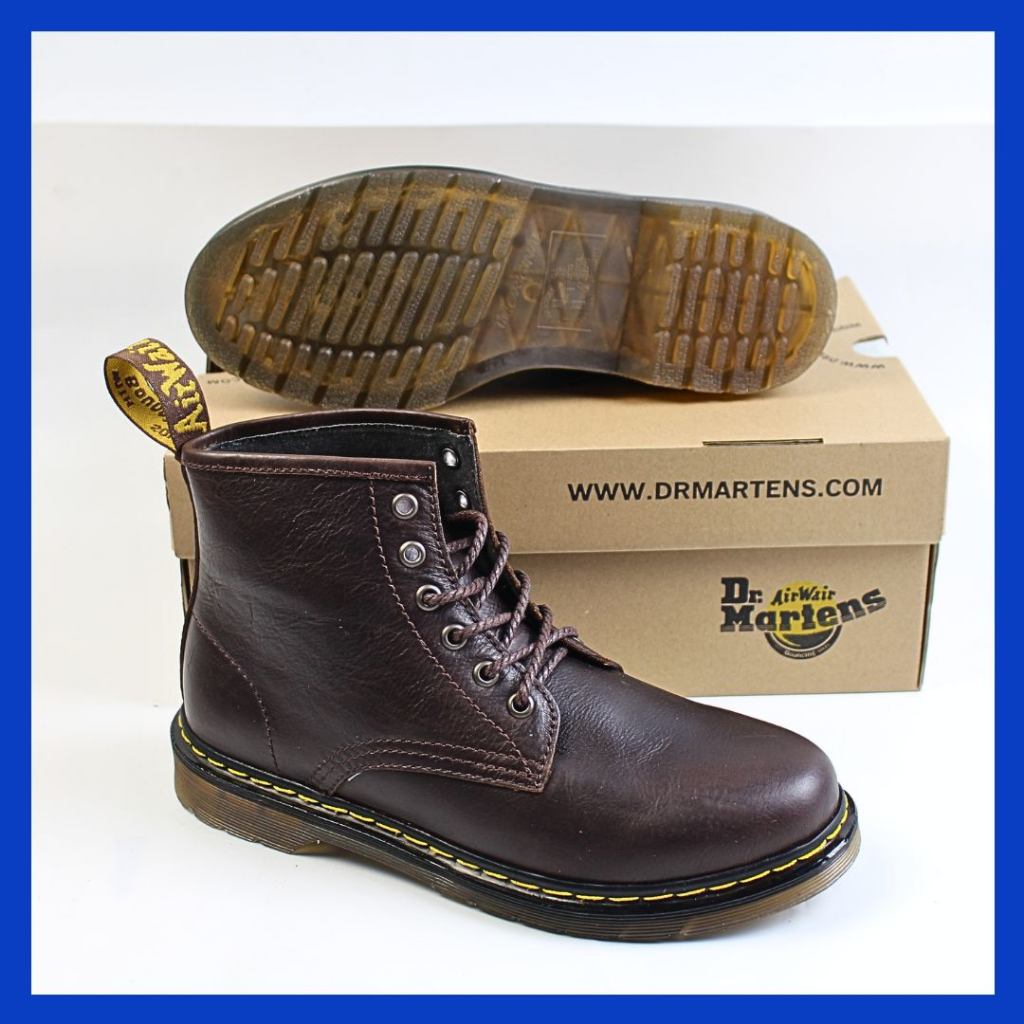boots: (103, 338, 863, 943), (180, 162, 836, 418)
